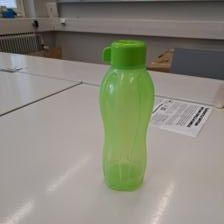bottle: (99, 39, 154, 191)
